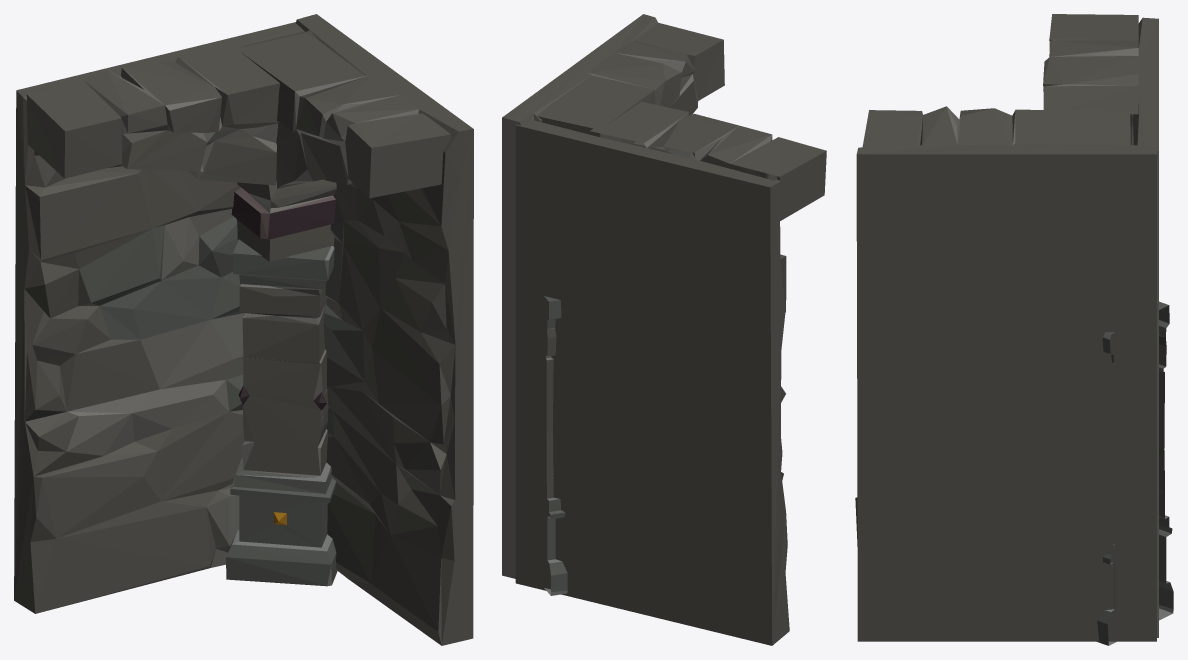
File: MDungeons_Walls_Arched_Corner_01.FBX
3 renders of one model, left to right at view 1: azimuth 30°, elevation 25°; view 2: azimuth 150°, elevation 25°; view 3: azimuth 270°, elevation 25°, orthographic. The views are drawn at different scales.
Visible parts, largest first — view 1: MDungeons_Walls_Arched_Corner_01_LOD0; view 2: MDungeons_Walls_Arched_Corner_01_LOD0; view 3: MDungeons_Walls_Arched_Corner_01_LOD0.
Boxes of the visible parts, <box> form: MDungeons_Walls_Arched_Corner_01_LOD0: <box>14,14,473,645</box>; MDungeons_Walls_Arched_Corner_01_LOD0: <box>502,14,826,645</box>; MDungeons_Walls_Arched_Corner_01_LOD0: <box>855,14,1173,645</box>.
Size of what is drawn, in the model's own units: 3.85 by 6.07 by 3.53.
